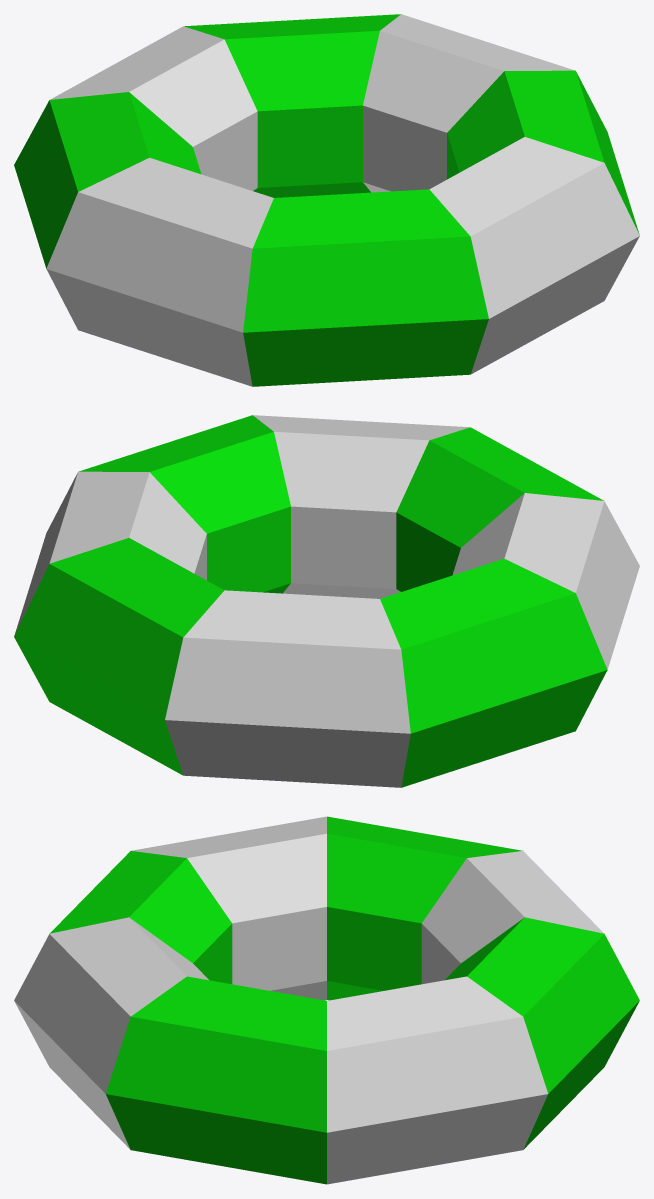
The model's file is flotador.fbx.
The picture shows the model from 3 angles, top to bottom: view 1: azimuth 30°, elevation 25°; view 2: azimuth 150°, elevation 25°; view 3: azimuth 270°, elevation 25°; orthographic projection. The views are drawn at different scales.
Visible parts, largest first — view 1: Torus; view 2: Torus; view 3: Torus.
Boxes of the visible parts, x1,y1,x2,y2 form: Torus: (14,14,639,386); Torus: (14,415,639,787); Torus: (14,816,639,1184).
Size of the model in its own units: 1.13 by 0.33 by 1.13.
